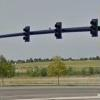Traffic light: (12, 12, 100, 46)
